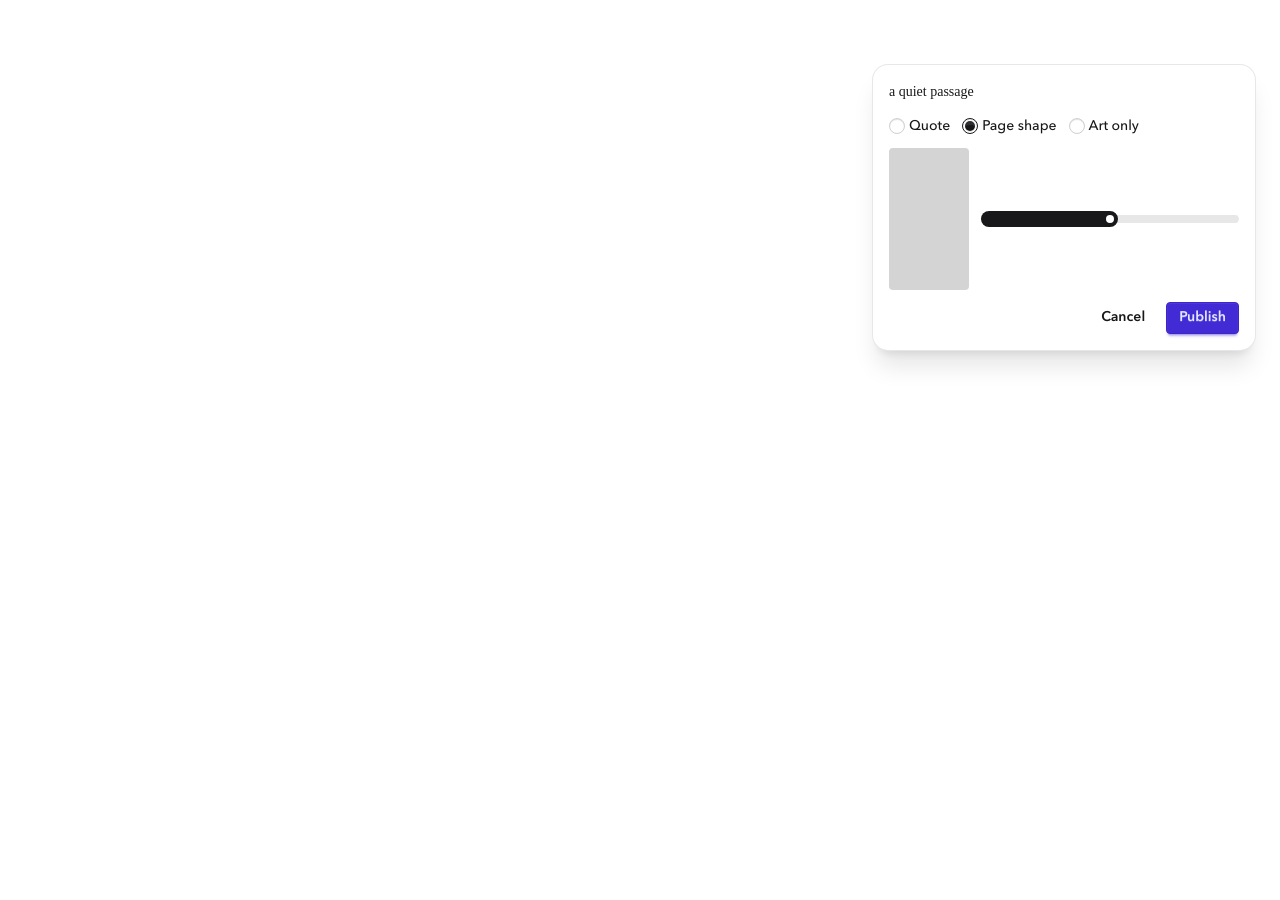
it: PublishSheet › display, scene and cover › switches to Page shape when quotes are off
Click the radio button labelled "Quote": (897, 126) [889,118,905,134]
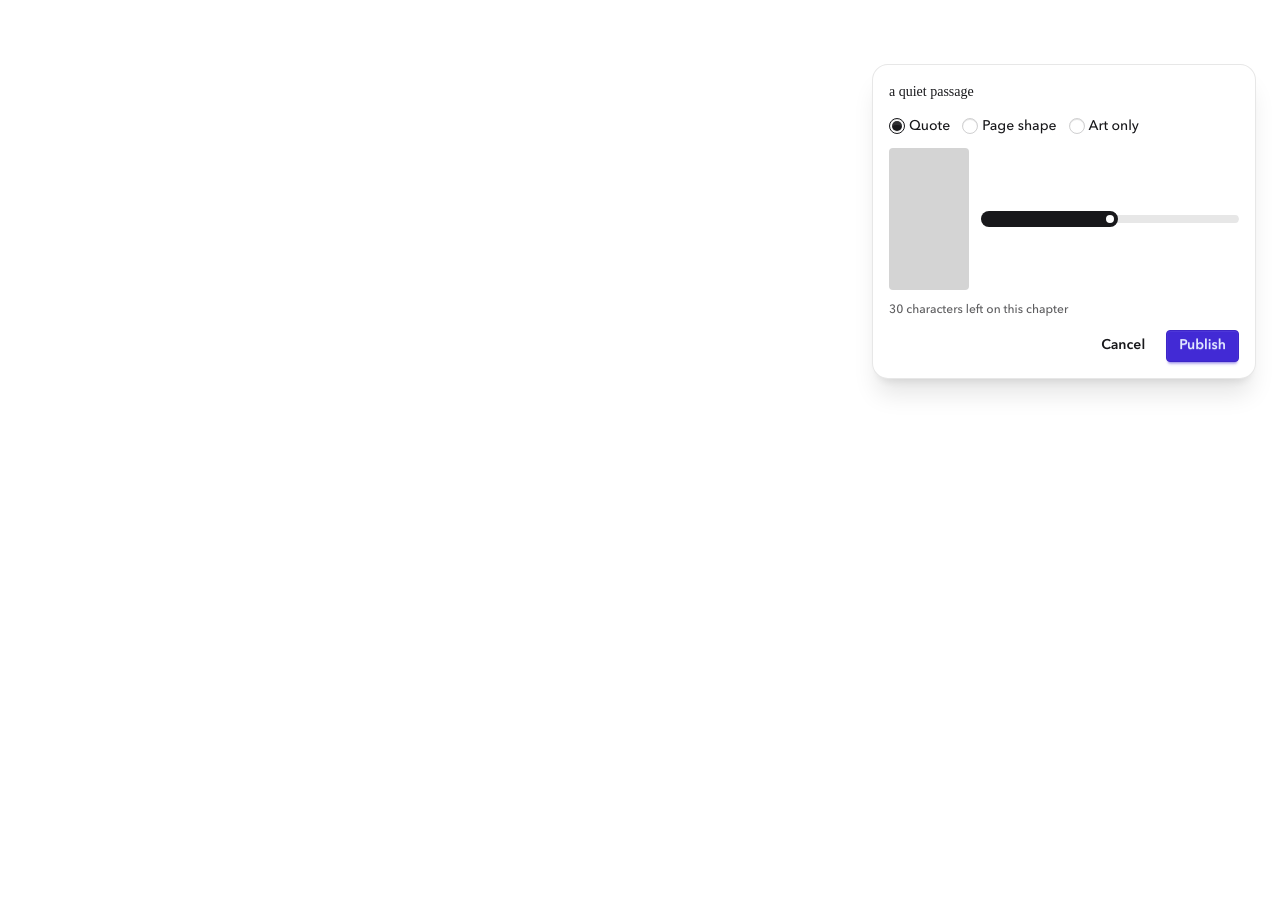
Click the button "Publish": (1203, 346) [1166,330,1239,362]
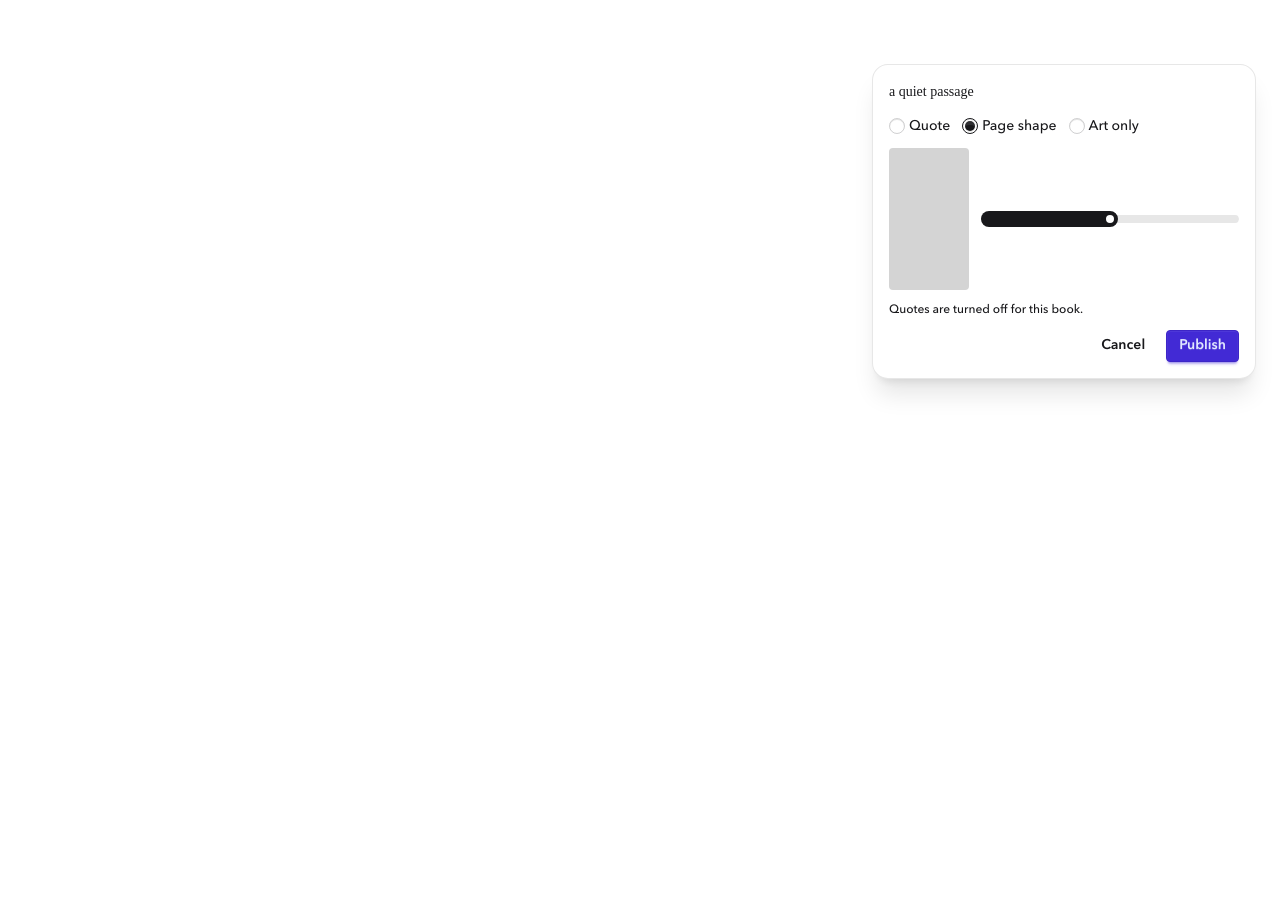
Expected: the text "Quotes are turned off for this book." is shown, [889,304,1083,316]
Expected: the radio button labelled "Page shape" is checked, [962,118,978,134]
